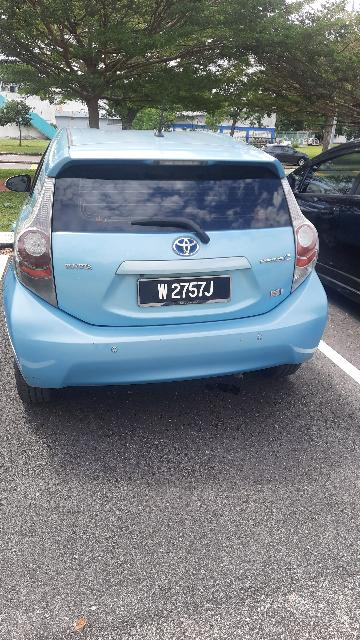License_Plate: (139, 273, 234, 308)
car: (5, 111, 328, 408)
